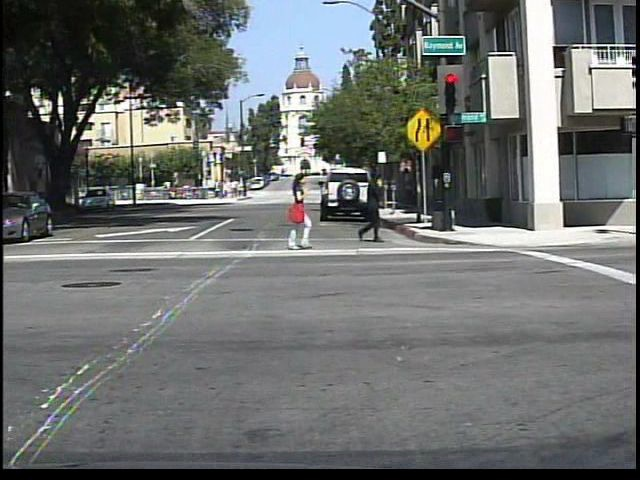person: (350, 167, 394, 251), (278, 167, 318, 251), (293, 181, 308, 202)
